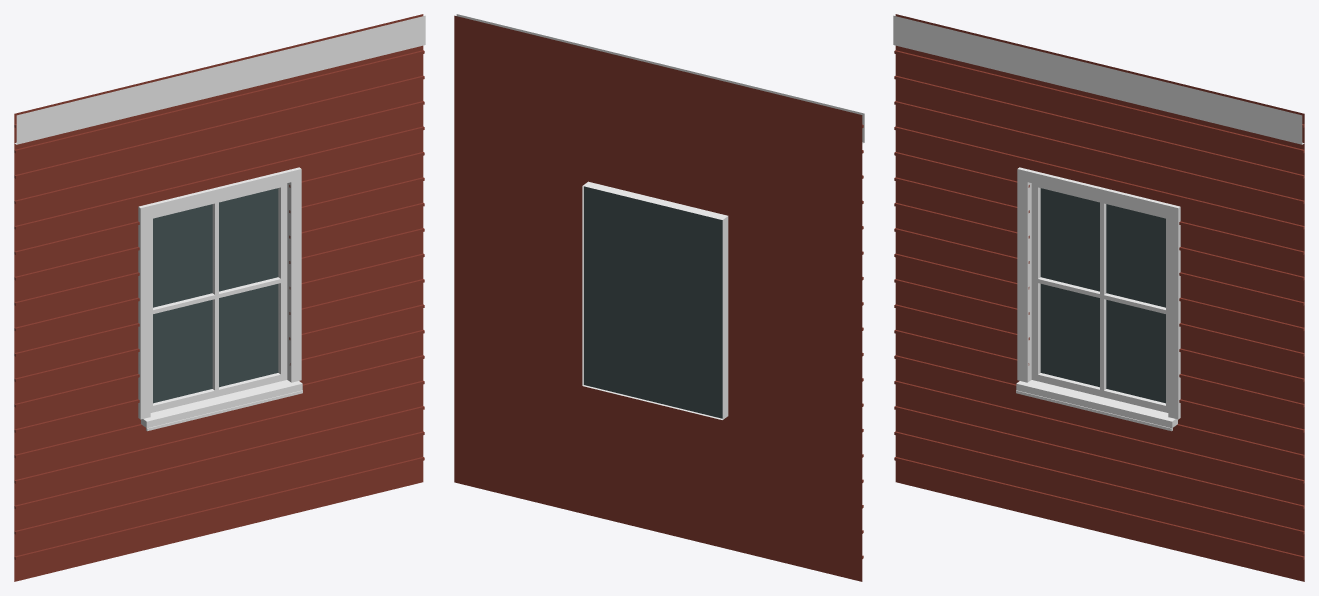
The model's file is top-w3_close.fbx.
The picture shows the model from 3 angles, left to right: view 1: azimuth 30°, elevation 25°; view 2: azimuth 150°, elevation 25°; view 3: azimuth 330°, elevation 25°; orthographic projection.
Parts seen in each view (by area): view 1: a2000/200/top-w3_close; view 2: a2000/200/top-w3_close; view 3: a2000/200/top-w3_close.
Boxes of the visible parts, bbox=[...] form: a2000/200/top-w3_close: bbox=[14, 14, 425, 581]; a2000/200/top-w3_close: bbox=[454, 14, 864, 581]; a2000/200/top-w3_close: bbox=[893, 14, 1304, 581].
Size of the model in its own units: 3.2 by 3.5 by 0.165.
